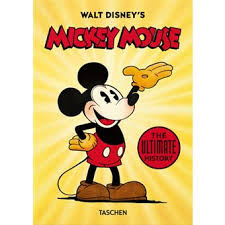mickey: (57, 59, 171, 203)
